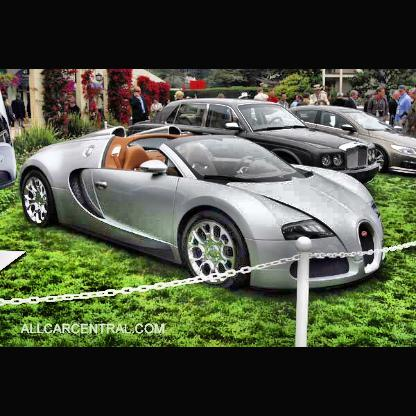Bugatti Veyron 16-4 Convertible 2009: (20, 126, 386, 288)
